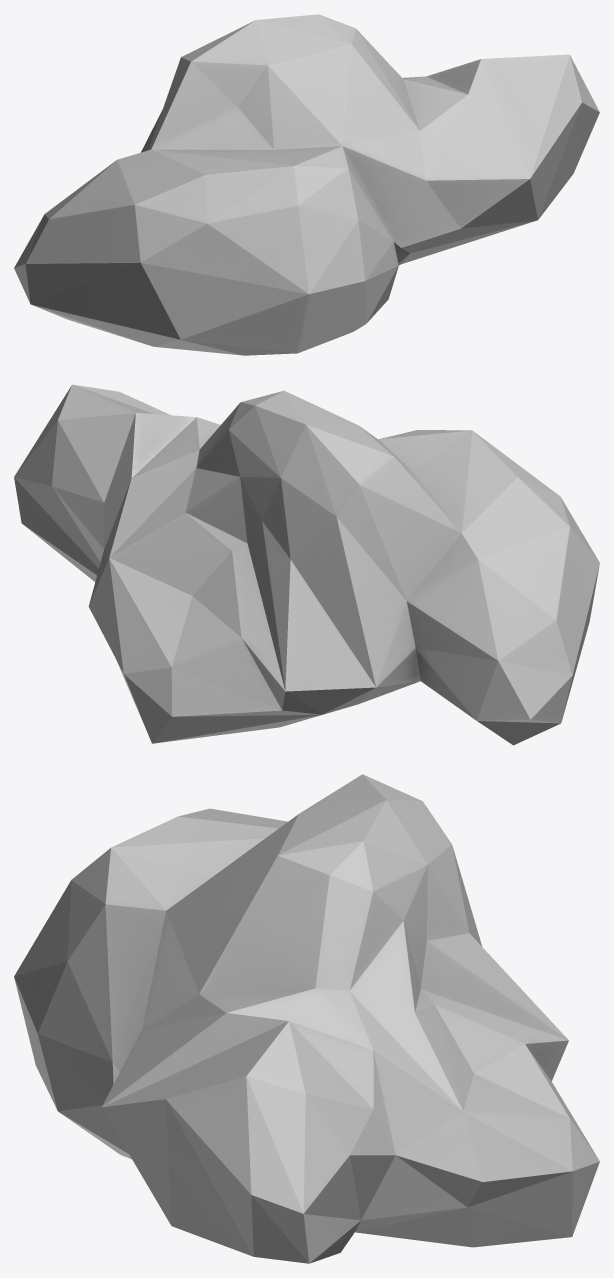
File: Cloud_2.fbx
3 views of the same model, one above another, from view 1: azimuth 30°, elevation 25°; view 2: azimuth 150°, elevation 25°; view 3: azimuth 270°, elevation 25° (orthographic). The views are drawn at different scales.
Parts seen in each view (by area): view 1: Cloud_2; view 2: Cloud_2; view 3: Cloud_2.
Part boxes in pixels (bbox=[...]): Cloud_2: bbox=[14, 14, 599, 355]; Cloud_2: bbox=[14, 384, 599, 745]; Cloud_2: bbox=[14, 774, 599, 1263].
Bounding box in the file's own units: 75.66 × 35.89 × 49.79.
